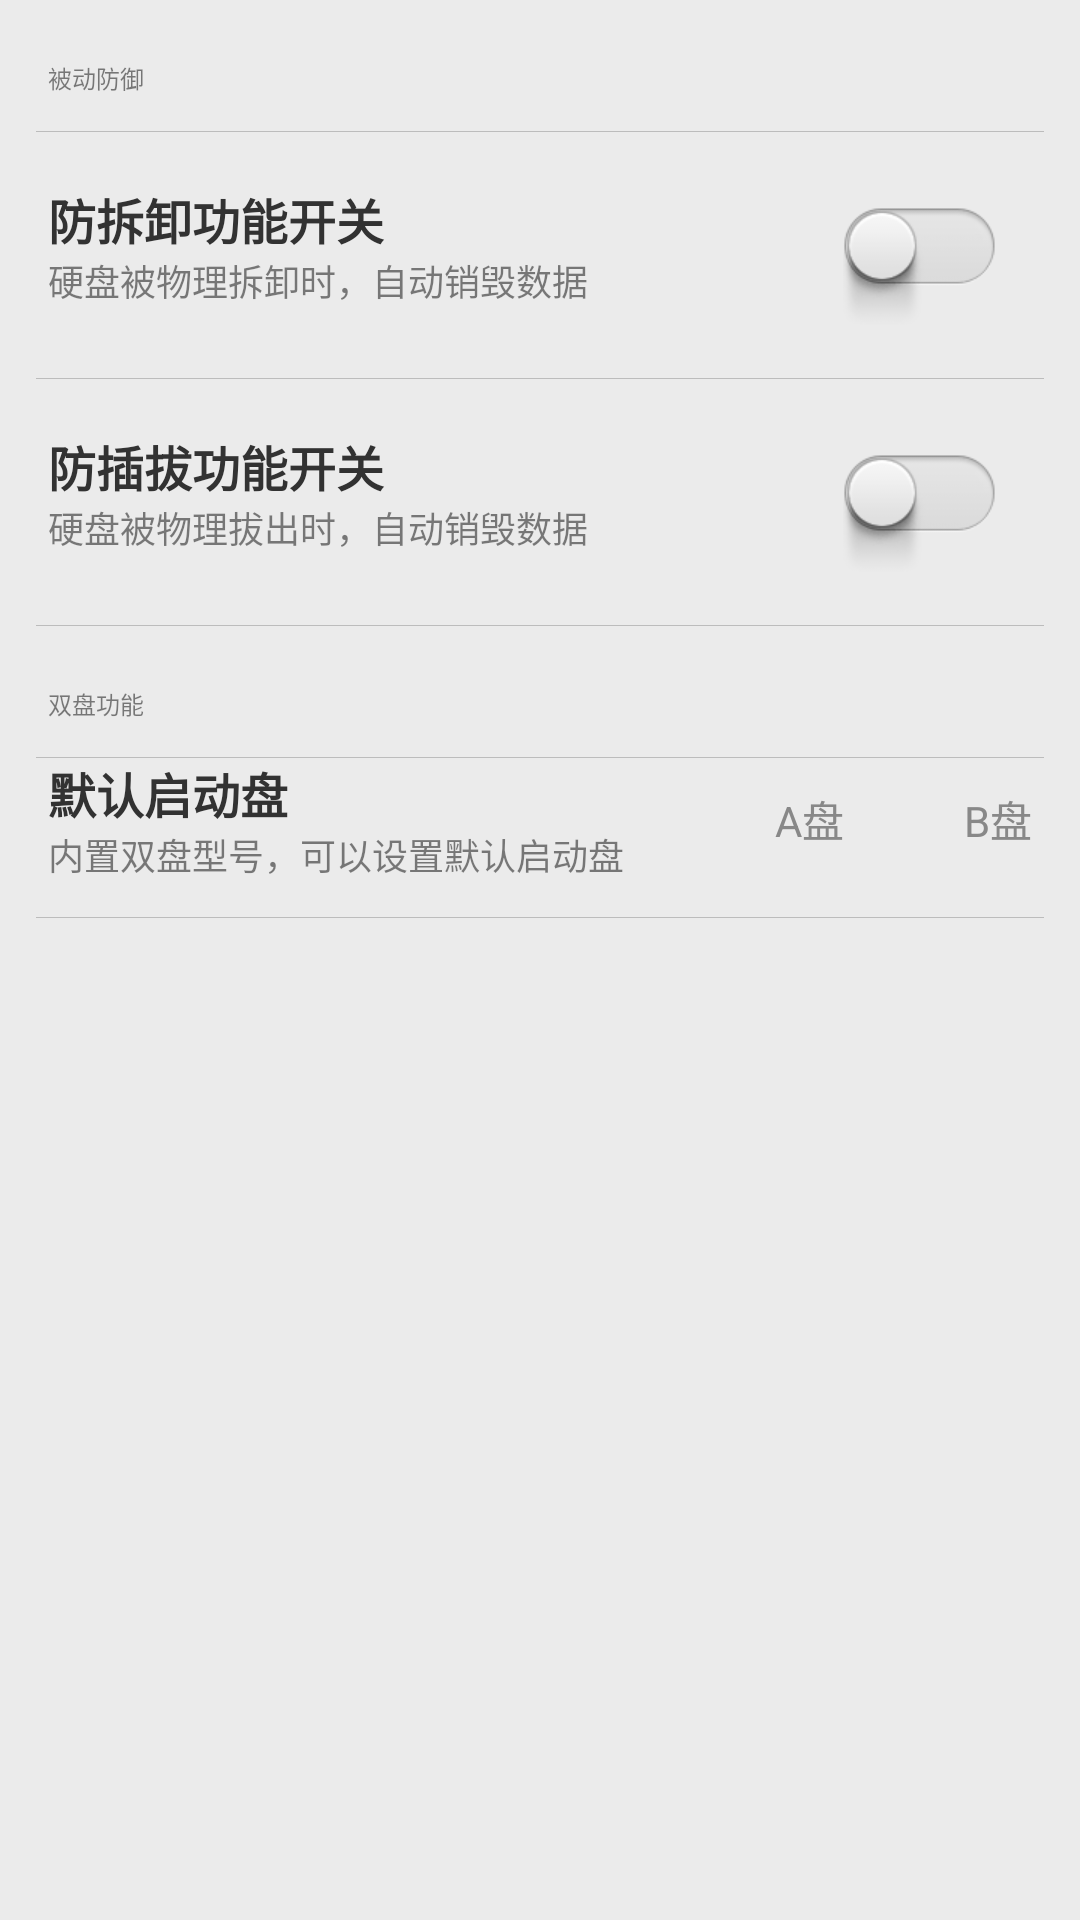

Screen size 1080 × 1920. Icon name, then its box in pixels as (x1,y1,x2,y2):
general shared switch: (844,208,995,298), (844,455,995,546)
